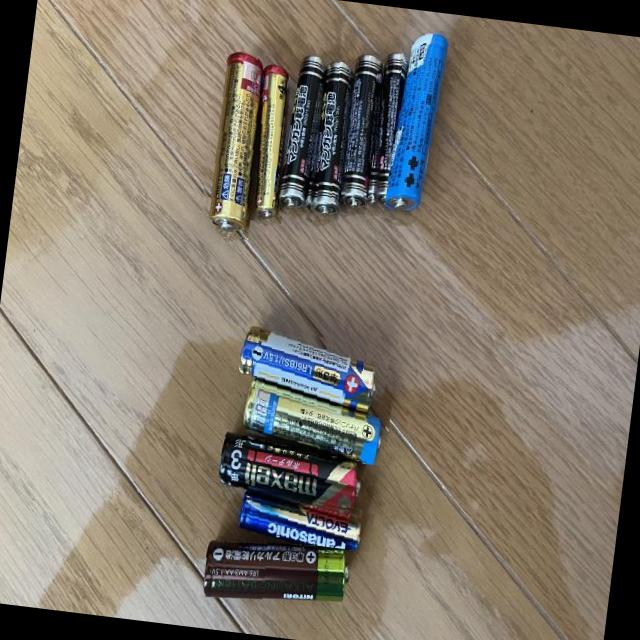Hazard: (232, 320, 392, 416), (193, 44, 270, 240), (235, 373, 393, 466), (383, 26, 456, 225), (192, 533, 356, 617), (210, 426, 369, 510), (238, 55, 300, 224), (271, 51, 329, 220), (232, 484, 376, 552), (357, 43, 412, 218), (300, 58, 357, 222), (330, 49, 384, 214)
